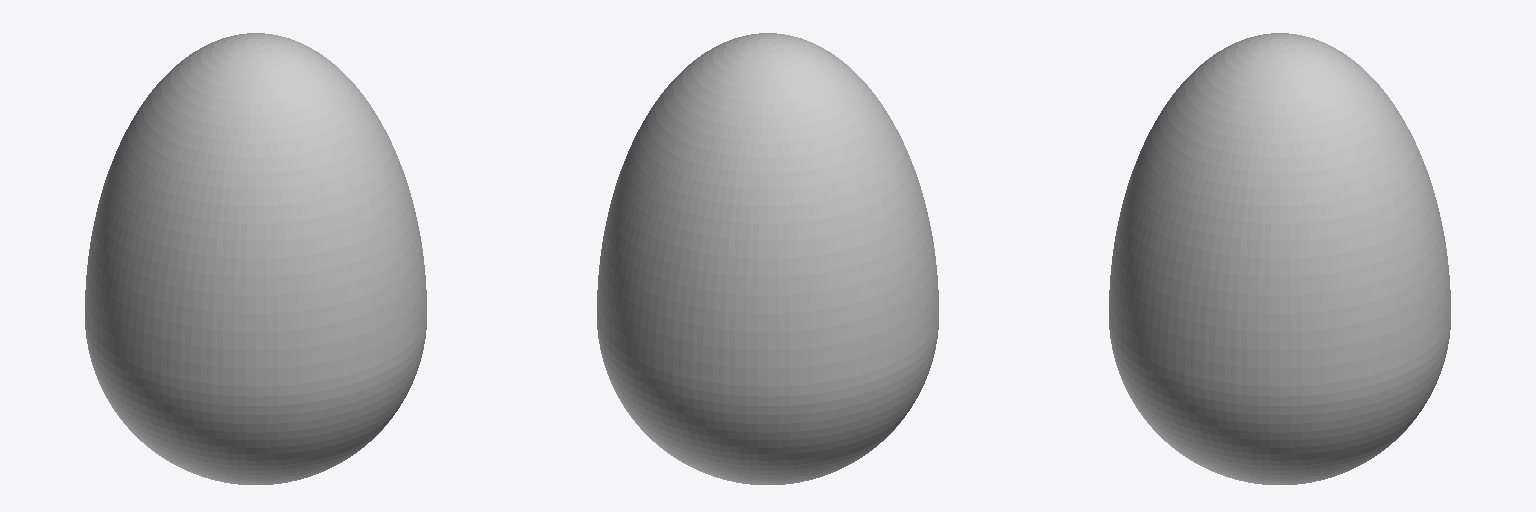
The model's file is egg.obj.
3 views of the same model, side by side, from view 1: azimuth 30°, elevation 25°; view 2: azimuth 150°, elevation 25°; view 3: azimuth 270°, elevation 25° (orthographic).
Parts seen in each view (by area): view 1: Model; view 2: Model; view 3: Model.
Part boxes in pixels (x1,y1,x2,y2): Model: (85,33,426,484); Model: (597,33,938,484); Model: (1109,33,1450,484).
Bounding box in the file's own units: 1.69 × 2.33 × 1.69.